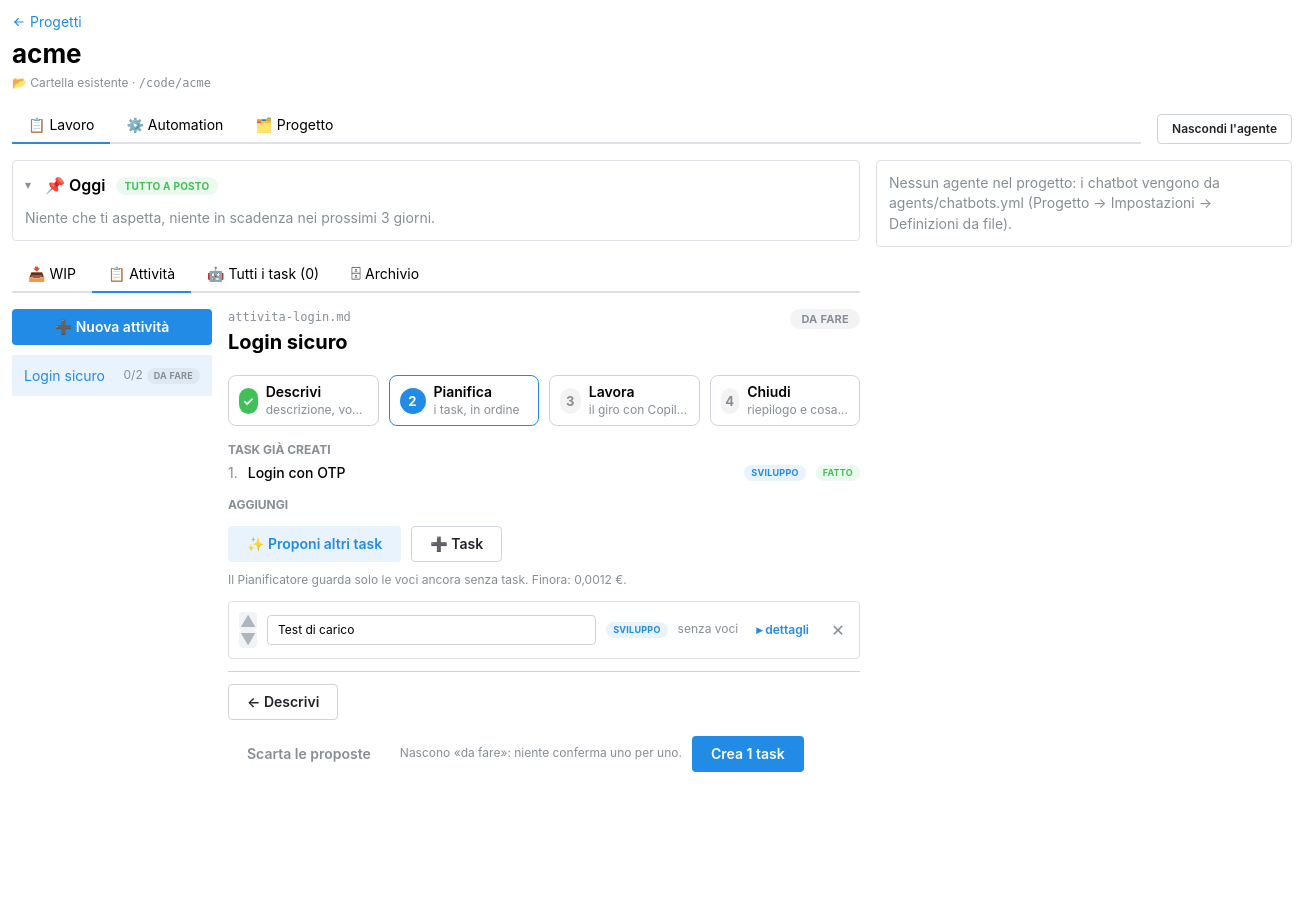
Test case: 2. Pianifica › with tasks already there: shows them, «Proponi altri task», drops the proposals
The image size is (1304, 912).
Expected: the text "Task già creati" is shown, [228, 442, 330, 457]
Expected: the button "✨ Proponi altri task" is shown, [228, 526, 401, 562]
Click the button "Scarta le proposte" at {"x": 309, "y": 754}, box [228, 736, 390, 772]
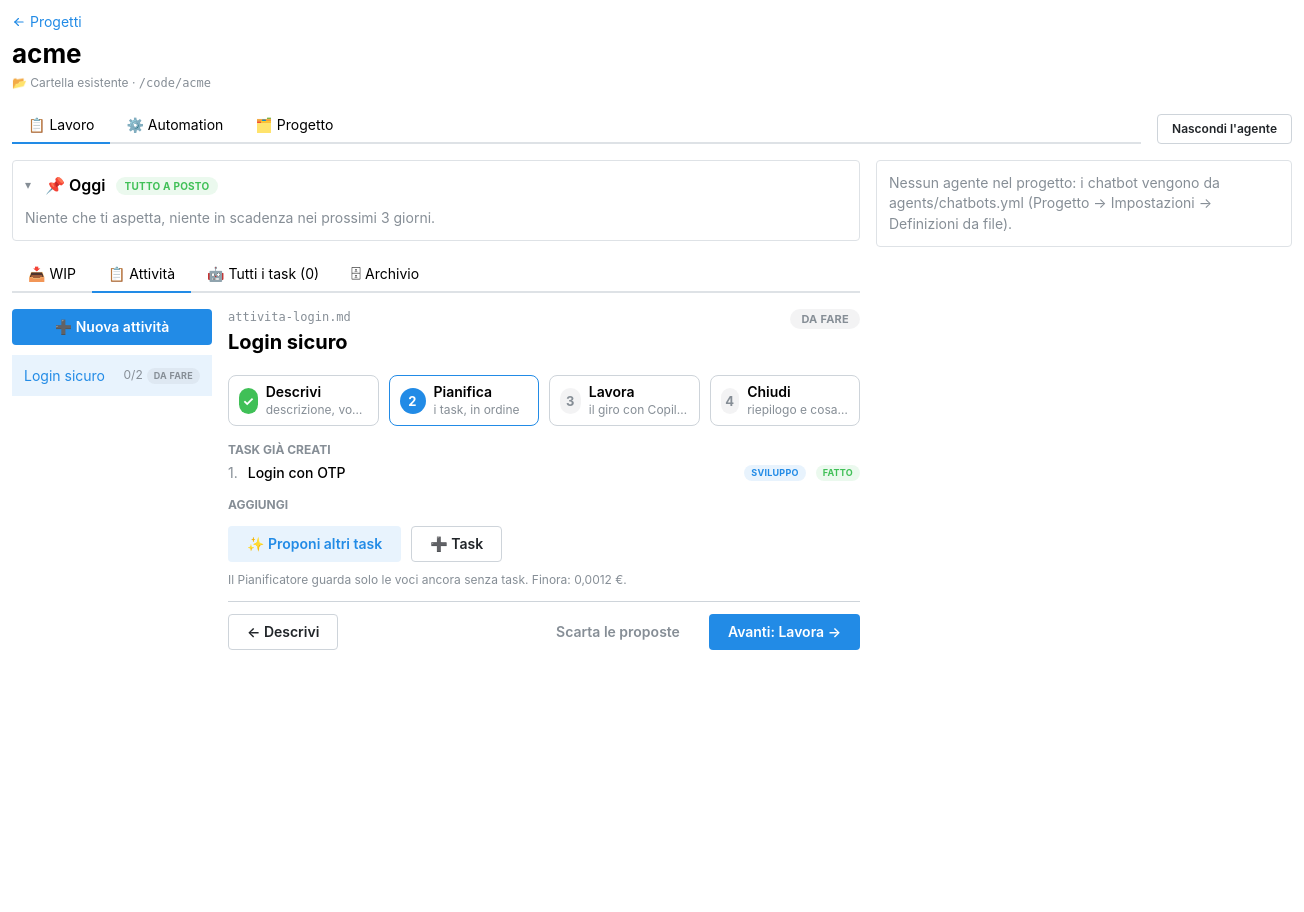
Expected: the button "Avanti: Lavora →" is shown, [709, 614, 860, 650]
